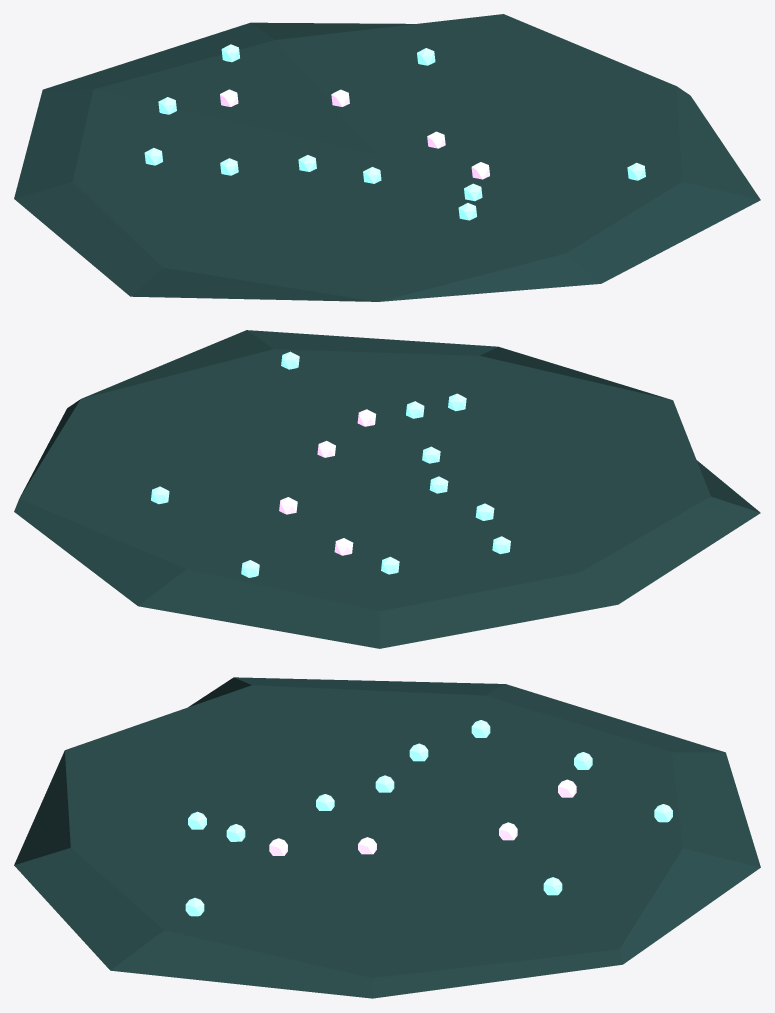
Rendered from nappe_mousse_modele.glb.
The picture shows the model from 3 angles, top to bottom: view 1: azimuth 30°, elevation 25°; view 2: azimuth 150°, elevation 25°; view 3: azimuth 270°, elevation 25°; orthographic projection. The views are drawn at different scales.
Visible parts, largest first — view 1: L1.009; view 2: L1.009; view 3: L1.009.
Part boxes in pixels (box(x1,y1,x2,y2)): L1.009: box(14, 14, 760, 301); L1.009: box(14, 330, 760, 648); L1.009: box(14, 677, 760, 998).
Size of the model in its own units: 2.07 by 0.09 by 2.03.
